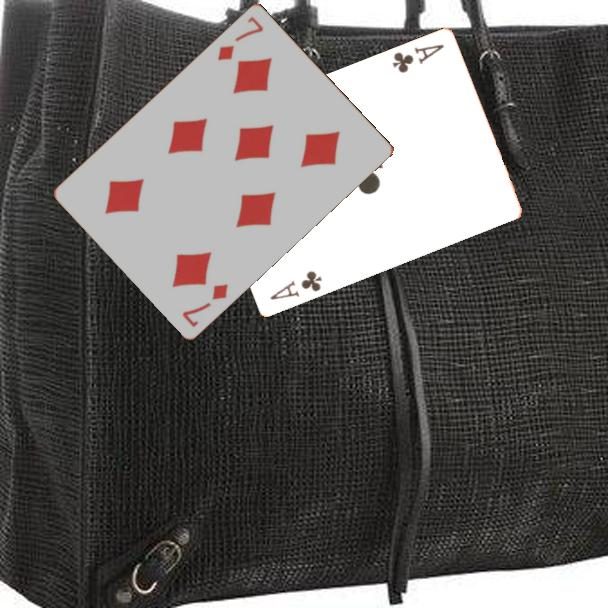c01: (266, 267, 325, 303), (389, 41, 447, 76)
d07: (178, 279, 231, 330), (214, 12, 266, 63)
